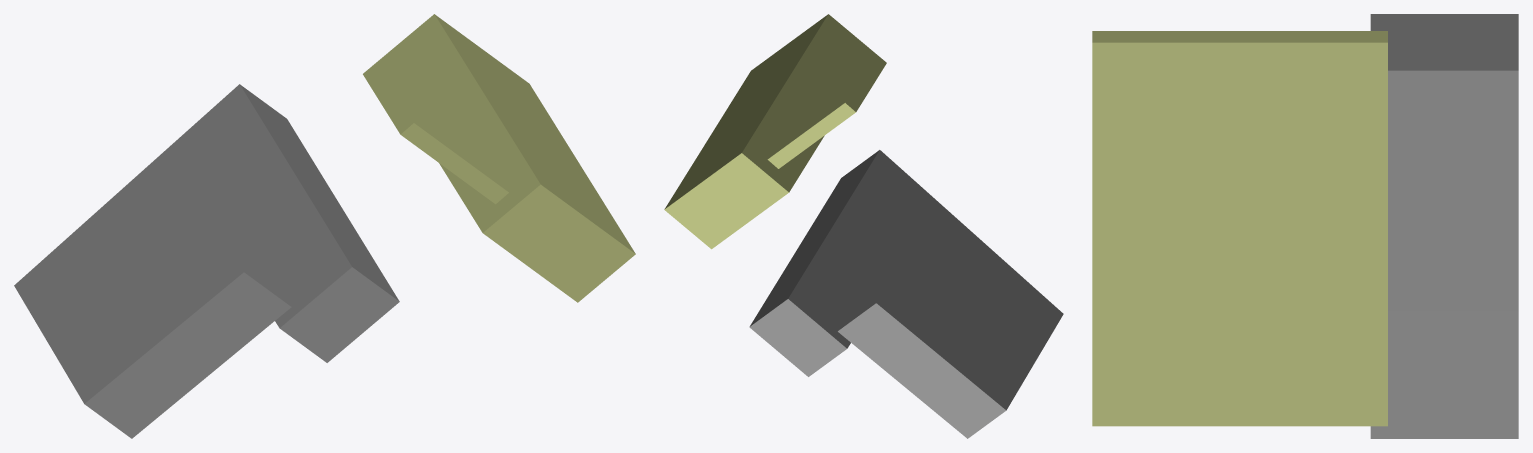
3 renders of one model, left to right at view 1: azimuth 30°, elevation 25°; view 2: azimuth 150°, elevation 25°; view 3: azimuth 270°, elevation 25°, orthographic. The views are drawn at different scales.
Visible parts, largest first — view 1: 0_1_1_3_2_2_3_0_3; view 2: 0_1_1_3_2_2_3_0_3; view 3: 0_1_1_3_2_2_3_0_3.
Boxes of the visible parts, left/top/right/bottom form: 0_1_1_3_2_2_3_0_3: left=14, top=14, right=635, bottom=438; 0_1_1_3_2_2_3_0_3: left=664, top=14, right=1063, bottom=438; 0_1_1_3_2_2_3_0_3: left=1092, top=14, right=1518, bottom=438.
Size of the model in its own units: 17.63 by 12.02 by 8.65.
